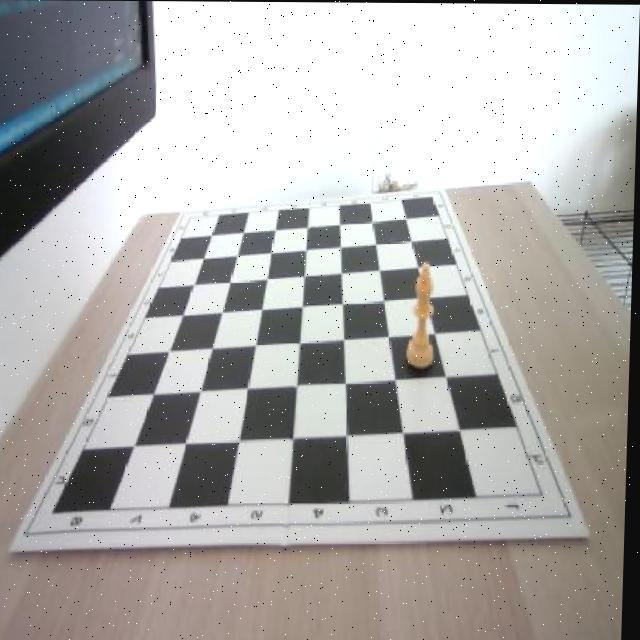black-rook: (407, 259, 439, 369)
